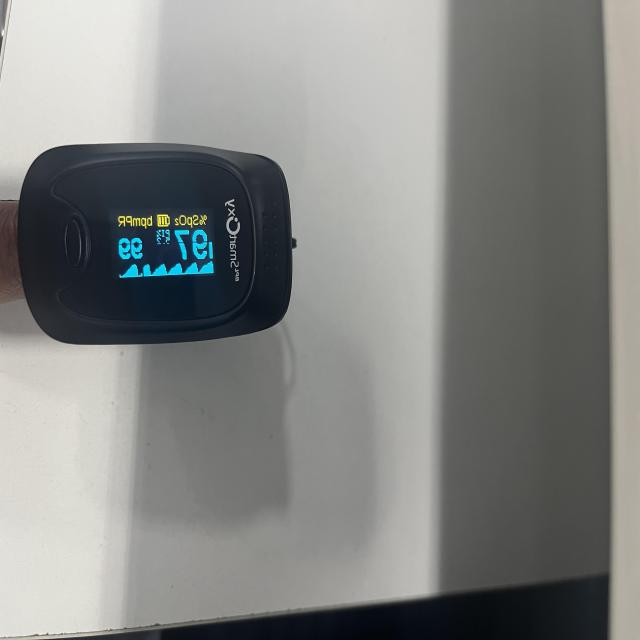spo2: (16, 144, 293, 347)
